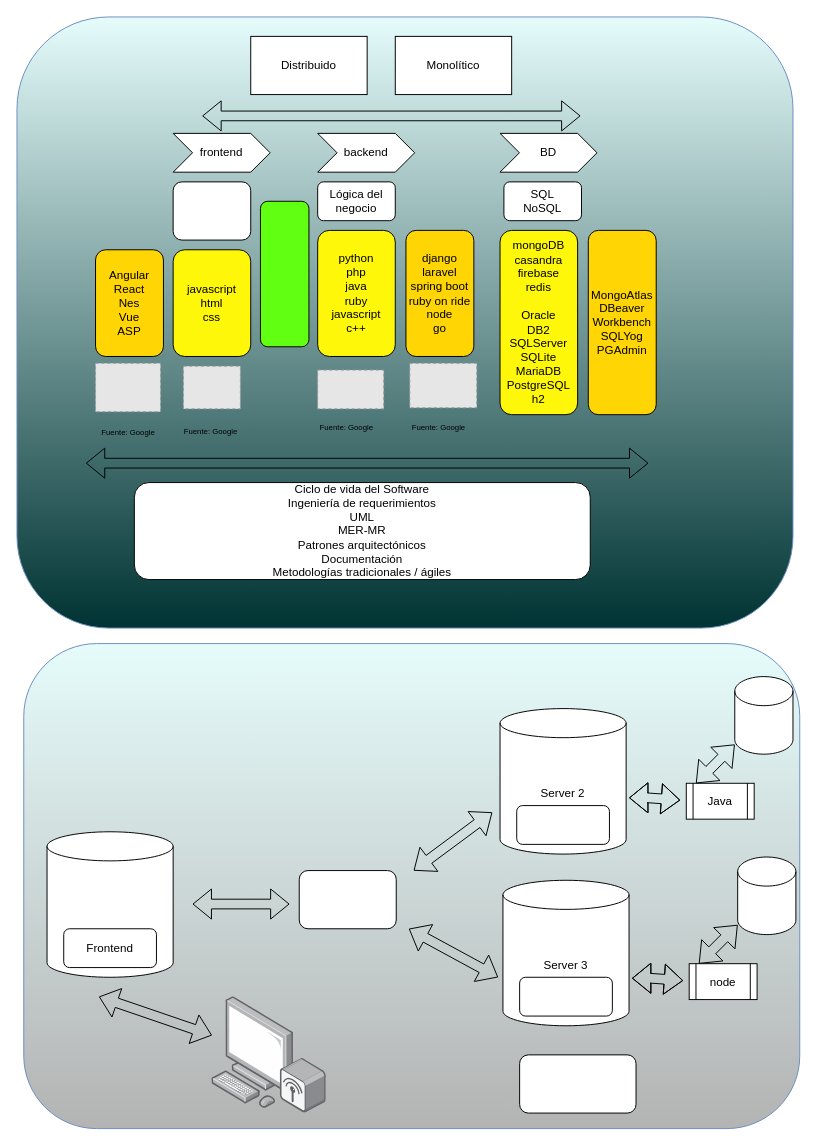
Image size: 817x1146. Some labels were removed from this diagram. Grey dashed boxes stand in for pictures. Each missing label, with the box of its shape:
ajax jquey axios fetch retrofish: (259, 200, 309, 347)
API: (298, 870, 396, 929)
Backend Business: (519, 976, 612, 1016)
Backend Security: (516, 805, 609, 844)
BD NoSQL MongoDB: (737, 856, 796, 935)
BD SQL Mysql: (734, 676, 793, 754)
Nota: Establecer Docker - Controles de despliegue: (519, 1054, 636, 1113)
Server 1: (46, 831, 173, 977)
Visualización web móvil desktop: (172, 181, 251, 240)
